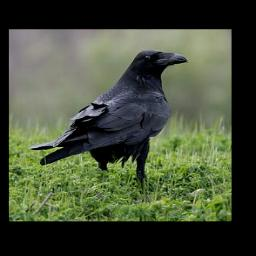Crow: (29, 50, 187, 190)
